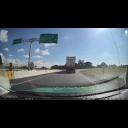speed_limit_40: (100, 62, 106, 69), (29, 62, 34, 68)
